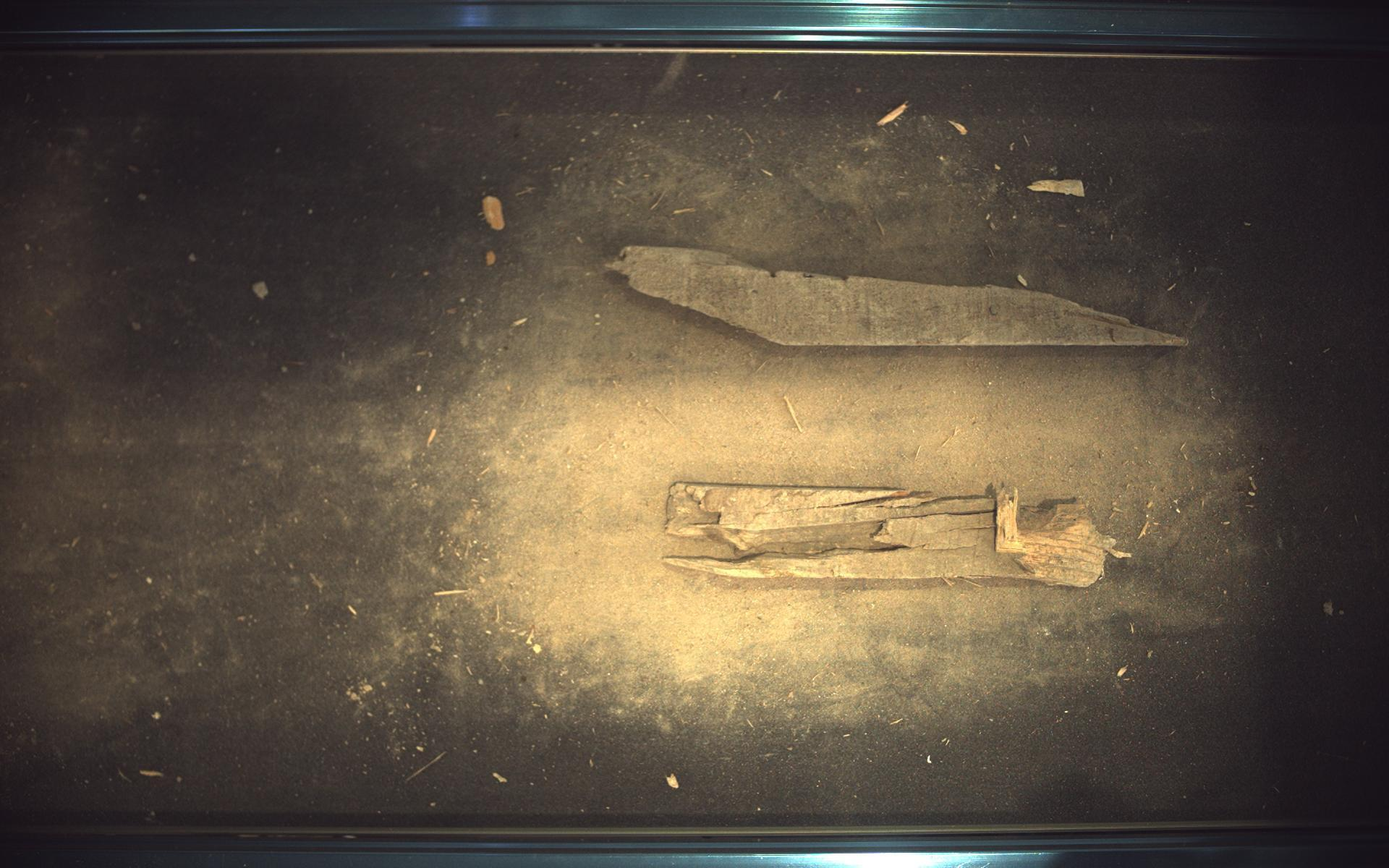wood: (610, 246, 1189, 347), (665, 482, 1118, 588)
